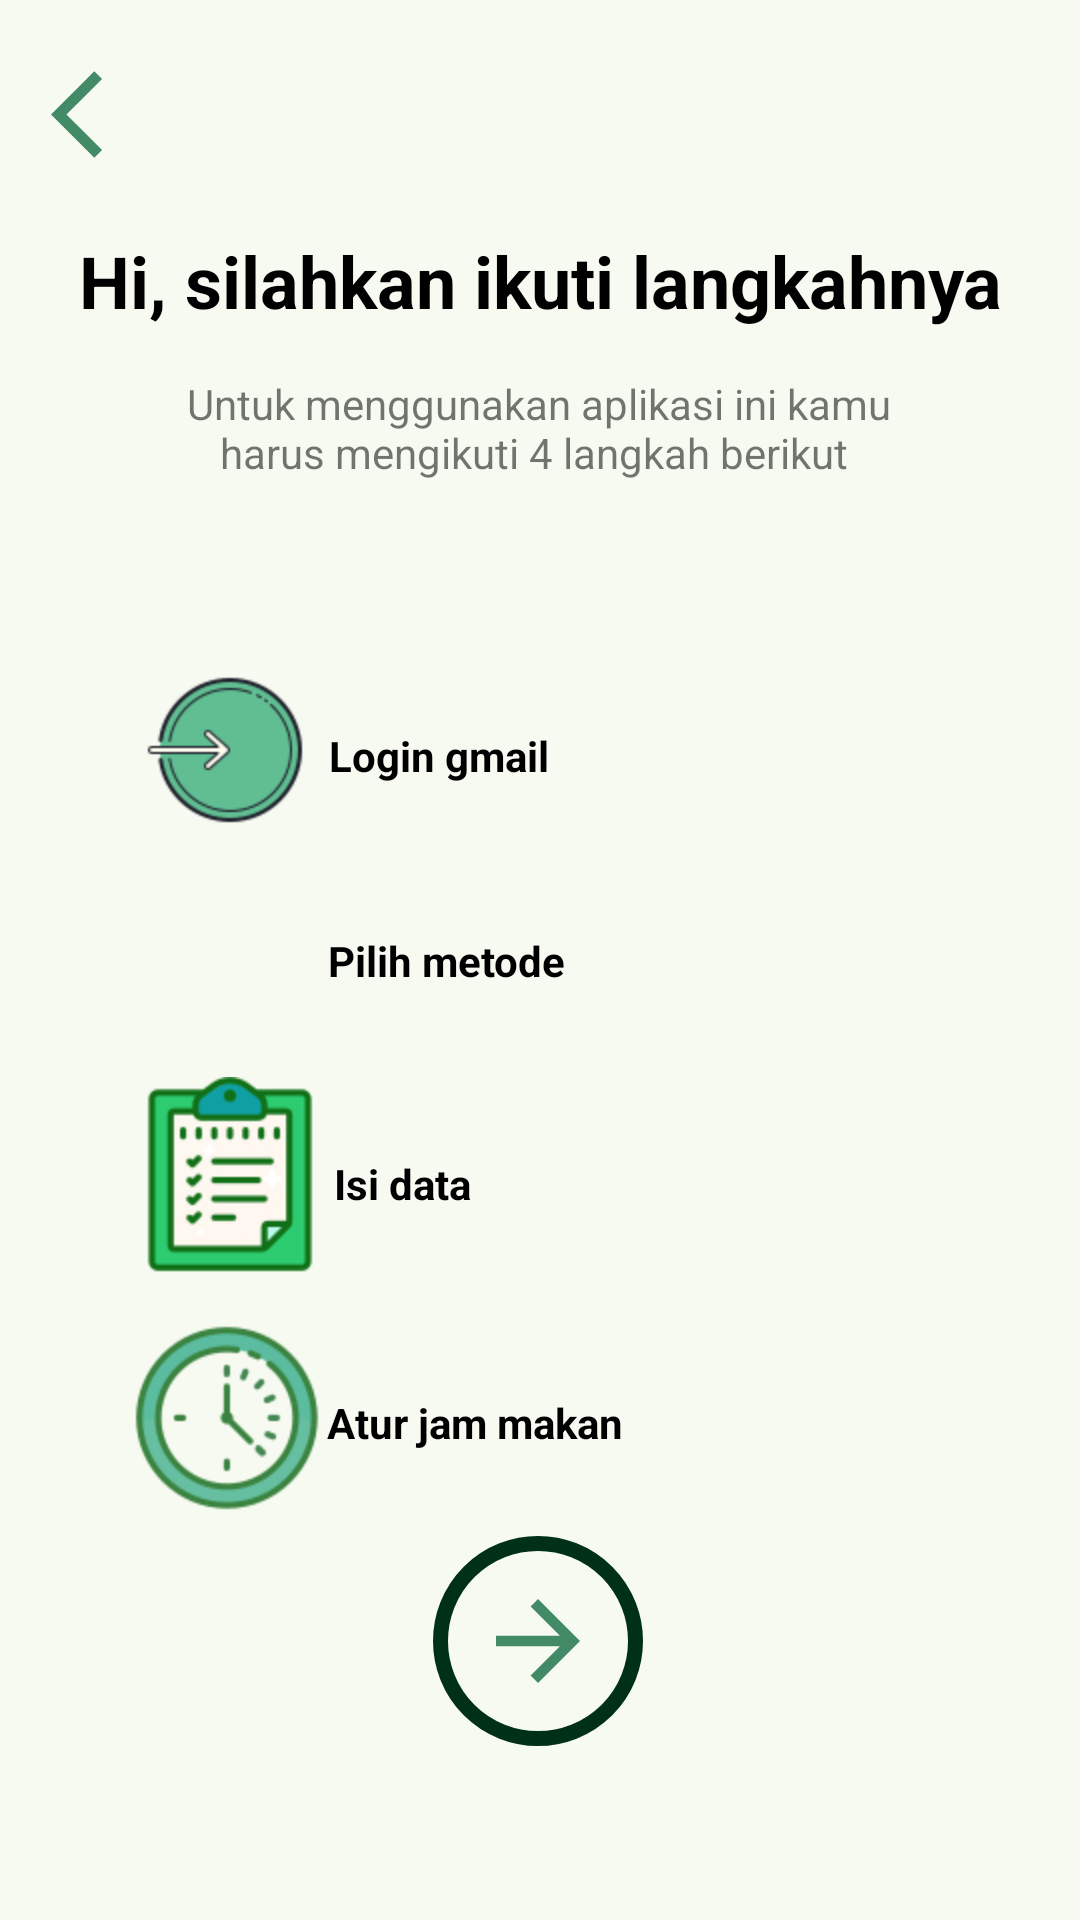

Named icons in this screenshot (1080 × 1920) and their centers, point (x, y):
back: point (76, 114)
clock: point (227, 1418)
list: point (230, 1174)
next: point (538, 1641)
